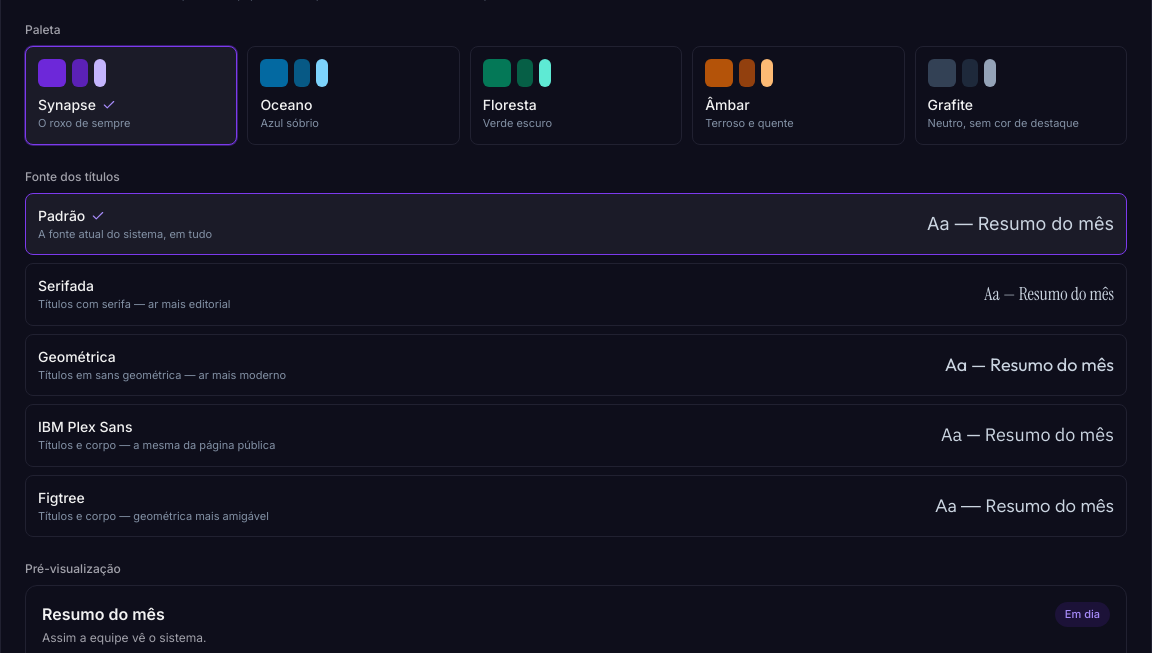
Test case: Identidade visual › sem mudança, o botão de salvar fica inativo
Click the radio button labelled "Grafite": click(1021, 95) [915,46,1127,144]
(page scrolled)
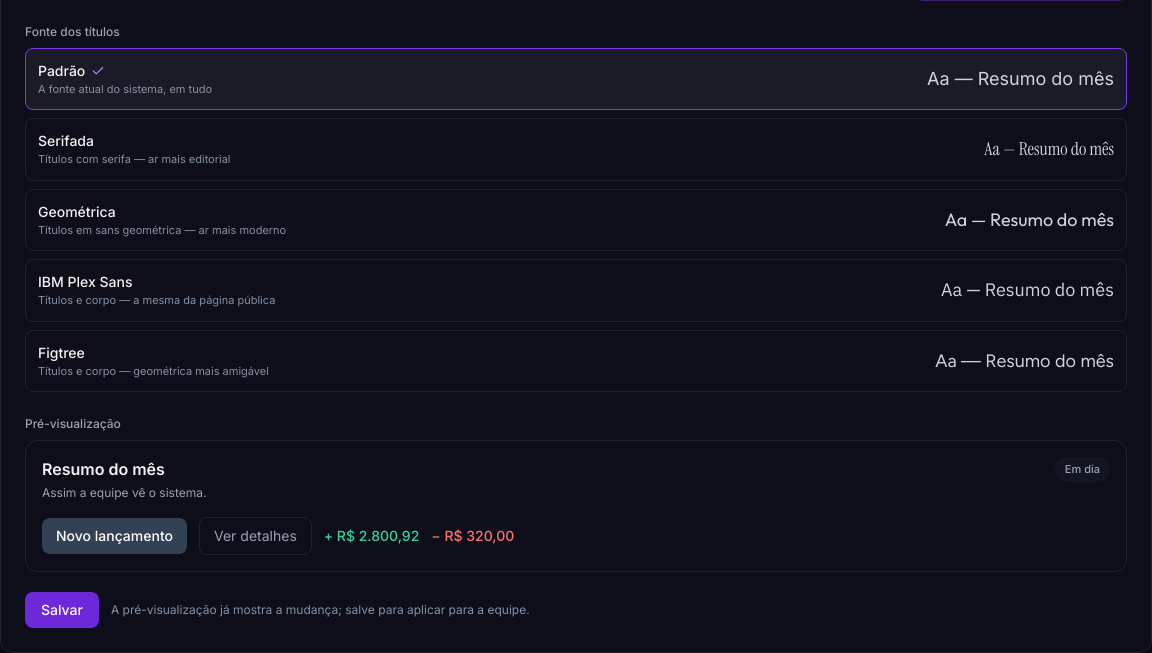
Expected: the button "Salvar" is enabled, [25,592,99,628]
